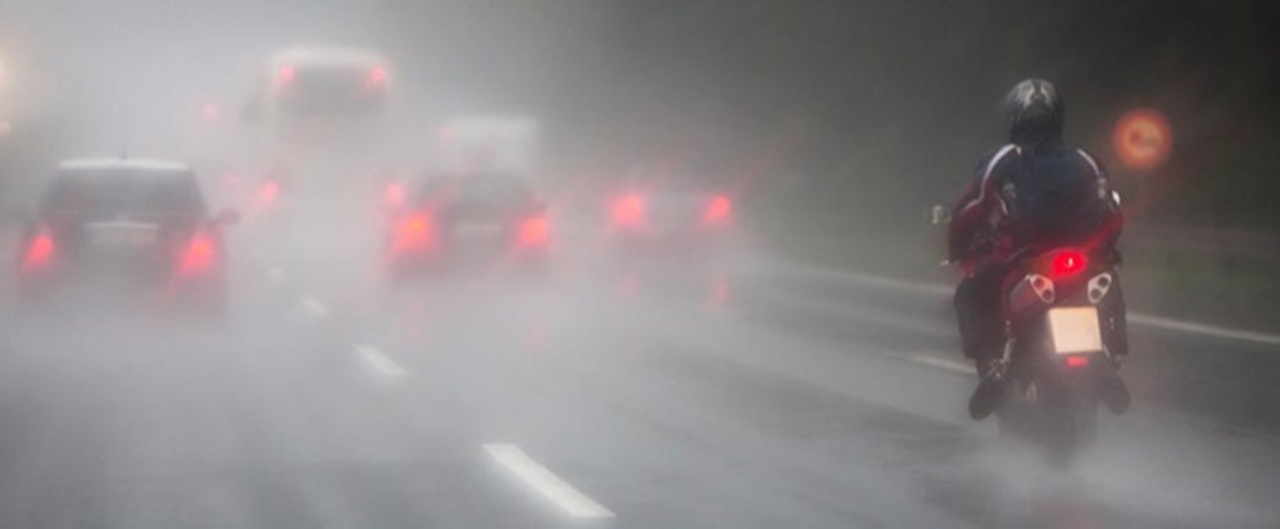bus: (240, 50, 401, 233)
car: (14, 158, 237, 337), (389, 172, 551, 292), (611, 158, 732, 259)
motorcycle: (936, 201, 1125, 461)
person: (948, 81, 1129, 420)
